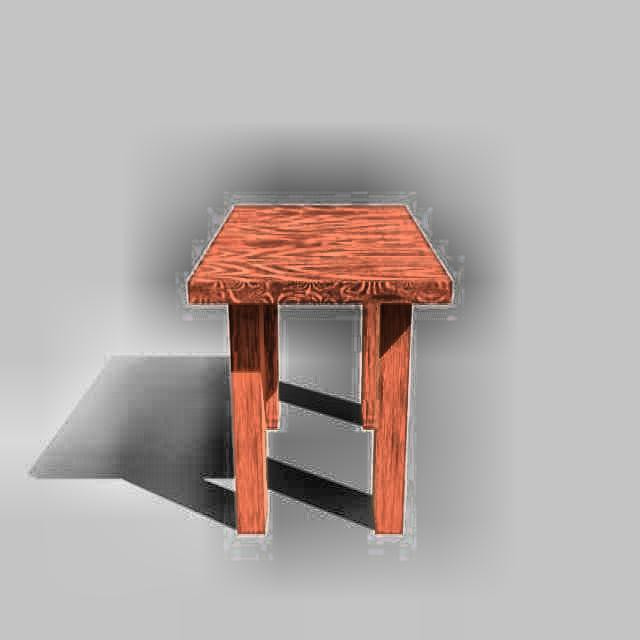mesa: (186, 200, 452, 535)
